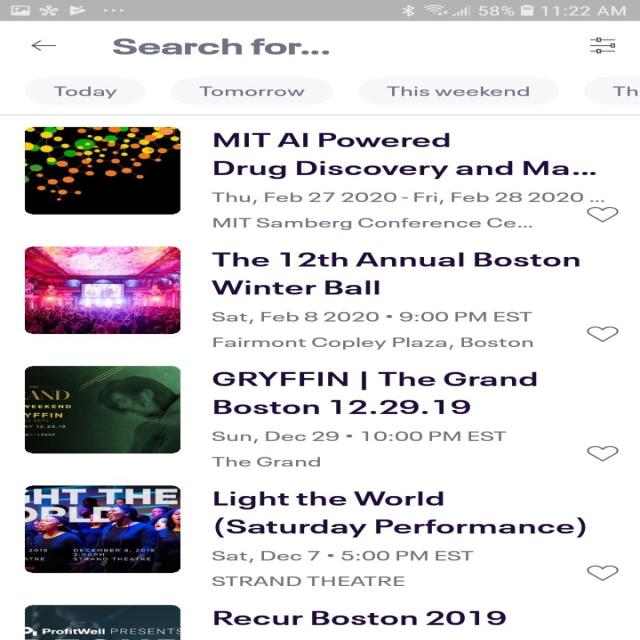Icon: (585, 565, 619, 581), (586, 445, 618, 462), (586, 326, 618, 342), (586, 207, 618, 222), (588, 38, 614, 53), (31, 41, 56, 51)
Image: (23, 485, 180, 573), (25, 365, 182, 453), (25, 246, 182, 334), (24, 127, 180, 214), (23, 604, 182, 639)
Text: (212, 132, 596, 180), (213, 490, 586, 538), (211, 252, 578, 296), (212, 370, 537, 414), (211, 191, 604, 205), (212, 610, 506, 625), (212, 336, 532, 349), (210, 311, 530, 324), (212, 217, 532, 230), (212, 431, 506, 444), (112, 38, 329, 55), (212, 550, 474, 563), (212, 576, 404, 586), (210, 456, 320, 466)
TextButton: (357, 77, 559, 106), (170, 76, 333, 105), (24, 77, 147, 106), (582, 76, 639, 105)
